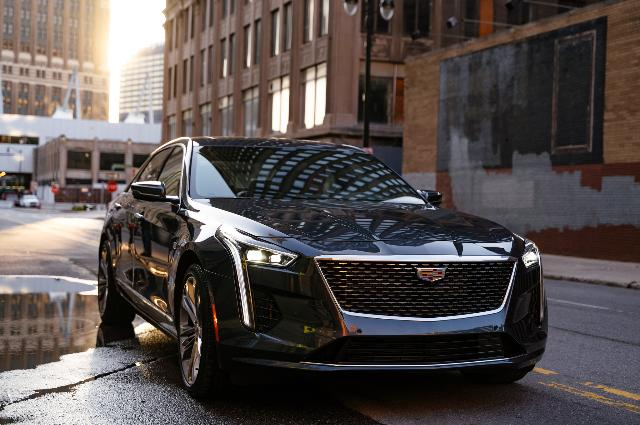cadillac: (98, 137, 548, 395)
